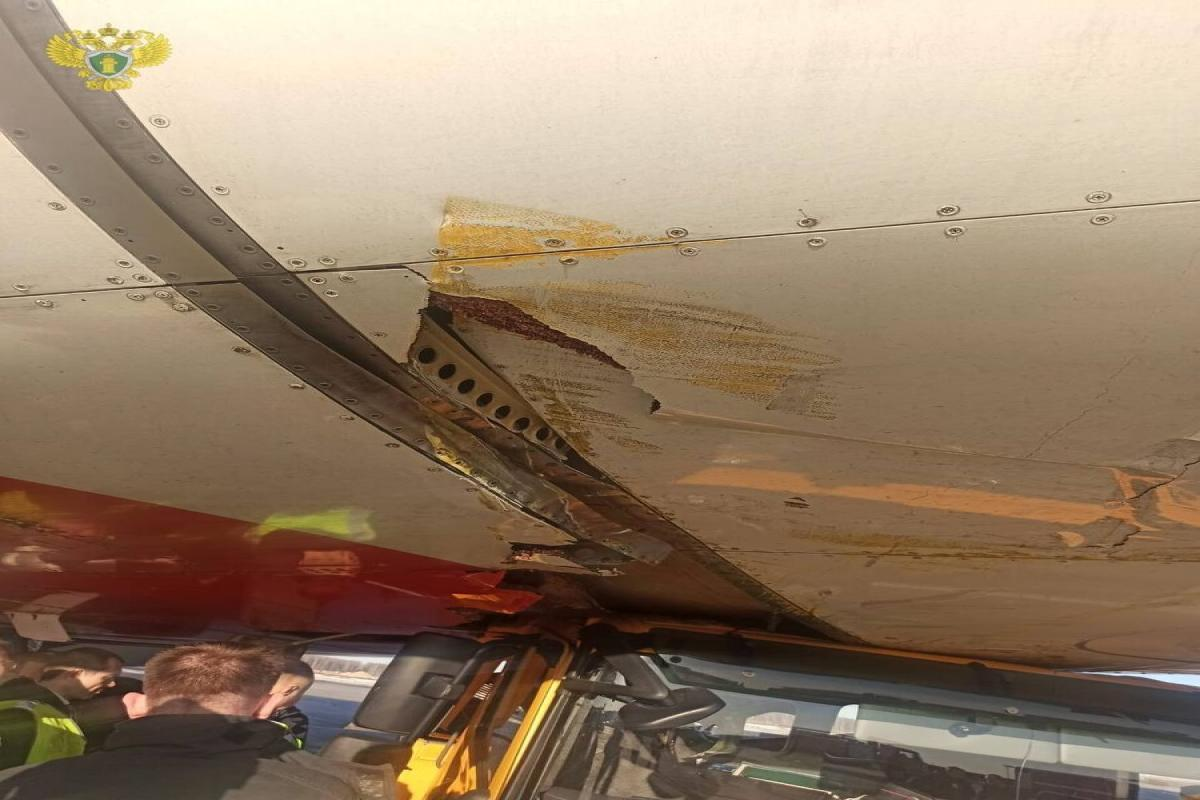Fuselage_damage: (292, 262, 669, 495), (423, 496, 751, 625)
